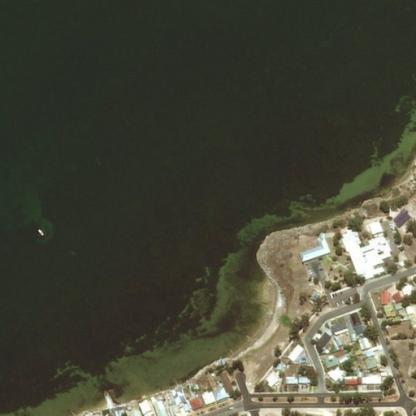ship: (31, 221, 49, 242)
